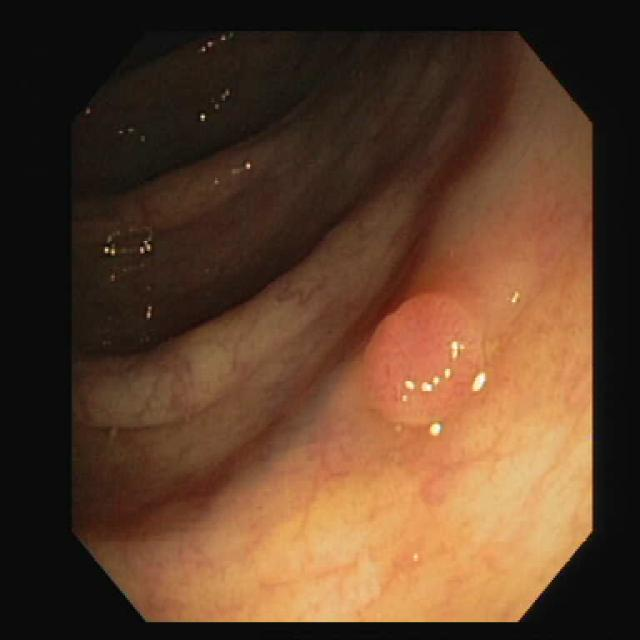tumor: (365, 293, 482, 422)
